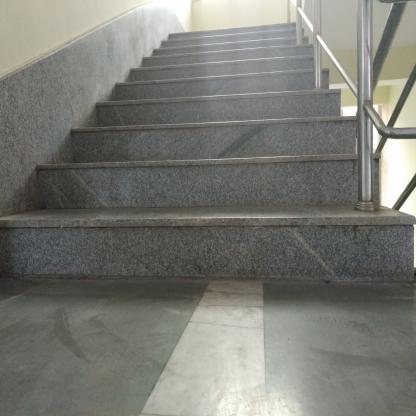stairs: (146, 64, 311, 284)
